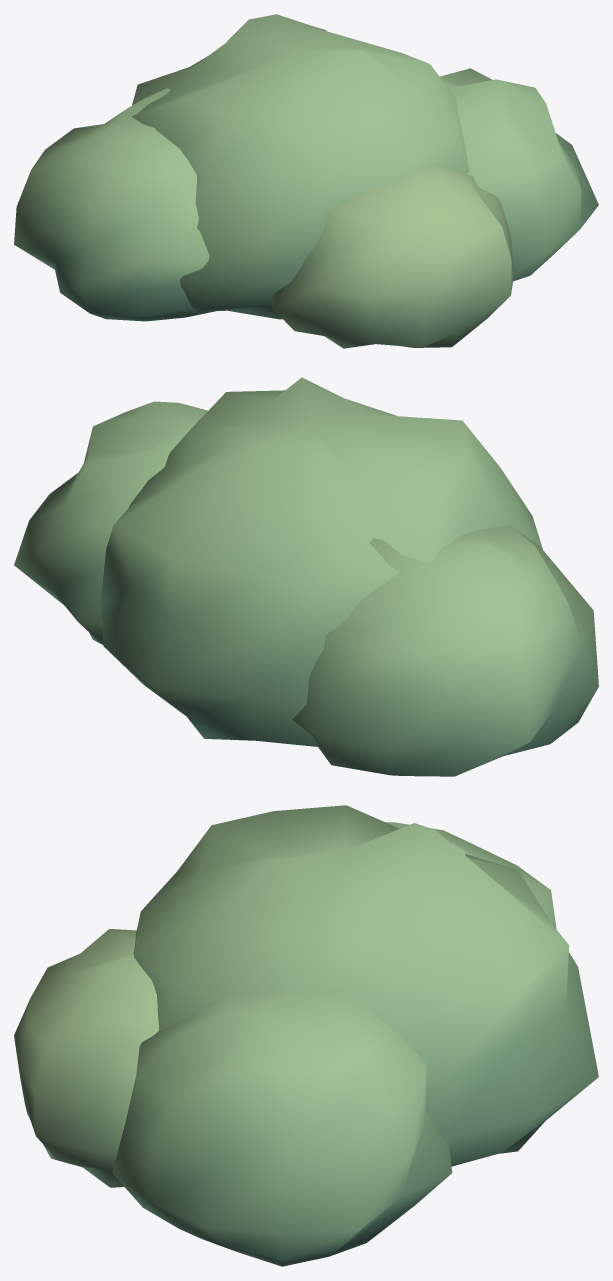
Rendered from busch.glb.
3 renders of one model, top to bottom at view 1: azimuth 30°, elevation 25°; view 2: azimuth 150°, elevation 25°; view 3: azimuth 270°, elevation 25°, orthographic. The views are drawn at different scales.
Visible parts, largest first — view 1: busch2; view 2: busch2; view 3: busch2.
Part boxes in pixels (x1,y1,x2,y2): busch2: (14, 14, 598, 348); busch2: (14, 377, 598, 776); busch2: (14, 805, 598, 1266).
Bounding box in the file's own units: 2.26 × 1.08 × 1.82.
